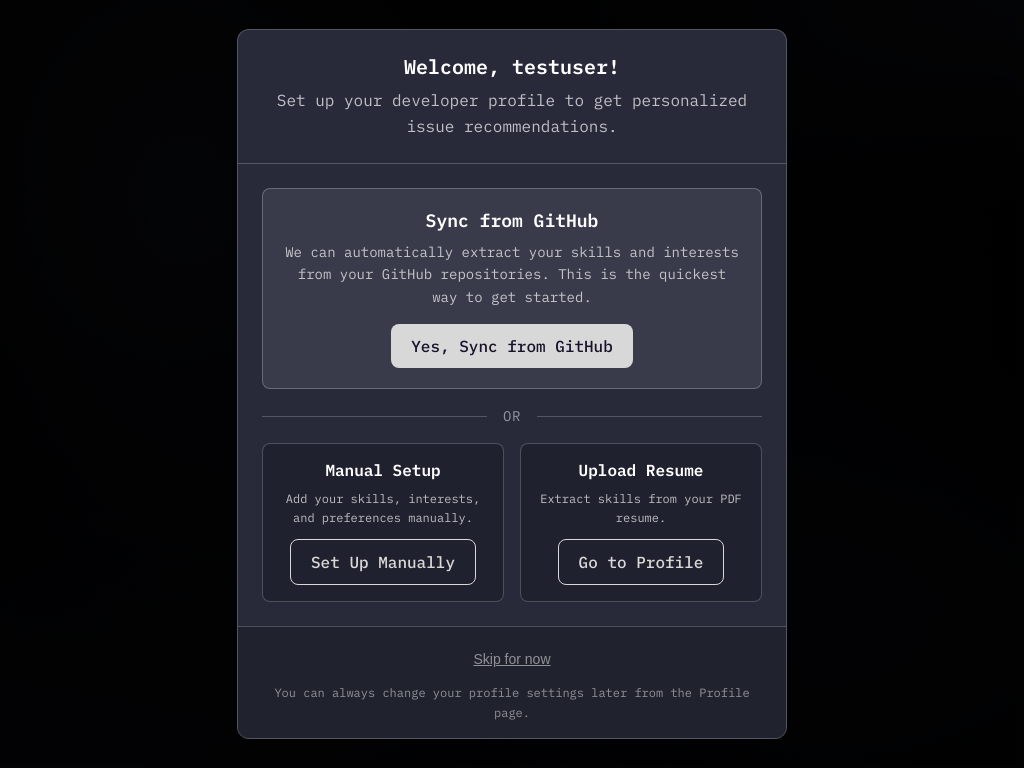
Test: FirstLoginPrompt › shows loading state when syncing
Click sync button to trigger syncing state
Click the button "Yes, Sync from GitHub" at (512, 346), box [391,324,633,368]
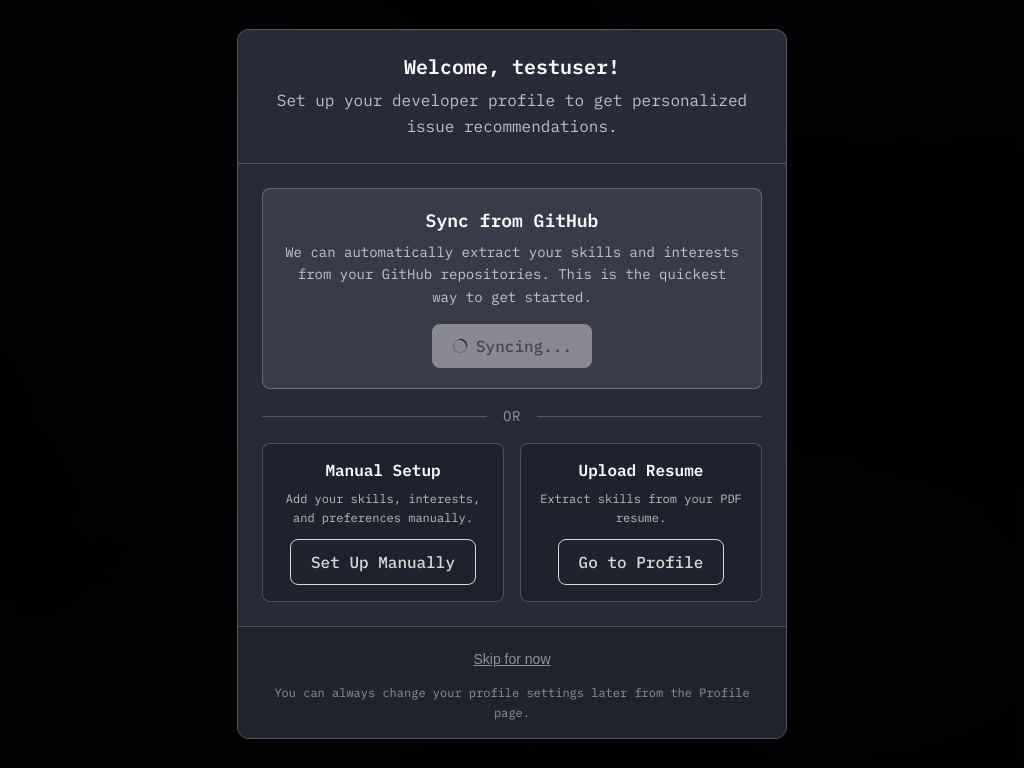
Now the button "Syncing..." is shown, box [476,336,572,356]
